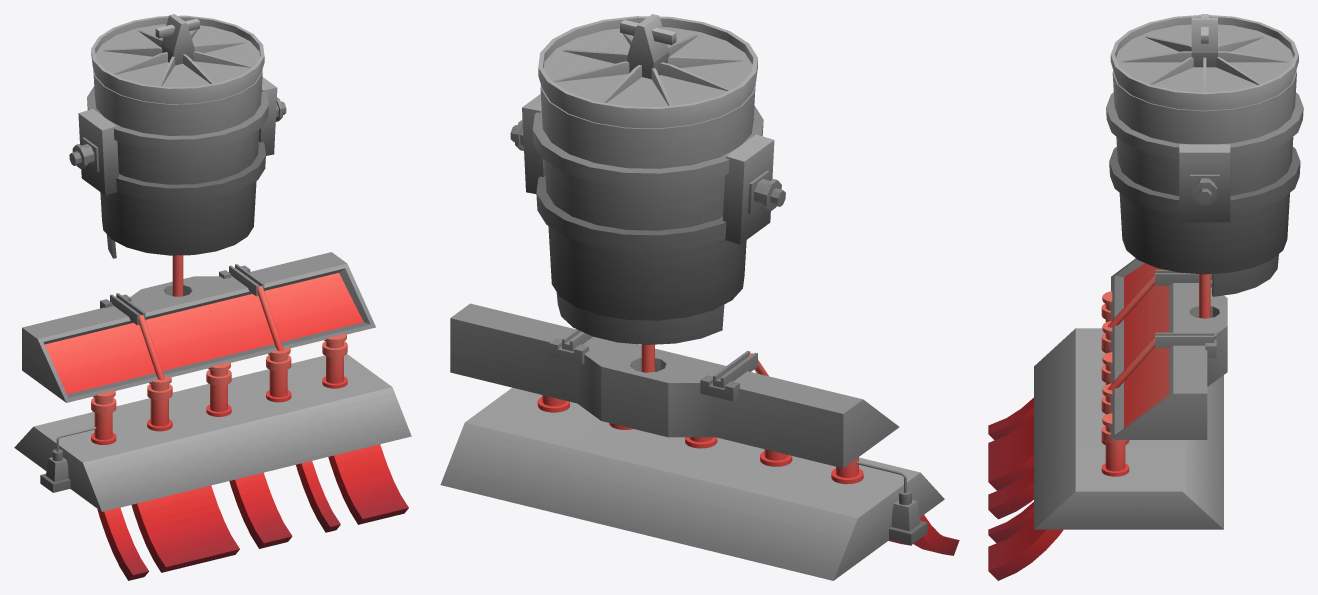
File: Lianzhu.glb
3 views of the same model, side by side, from view 1: azimuth 30°, elevation 25°; view 2: azimuth 150°, elevation 25°; view 3: azimuth 270°, elevation 25° (orthographic). The views are drawn at different scales.
Parts seen in each view (by area): view 1: Lianzhu; view 2: Lianzhu; view 3: Lianzhu.
Boxes of the visible parts, x1,y1,x2,y2 form: Lianzhu: [14, 14, 411, 580]; Lianzhu: [440, 14, 959, 580]; Lianzhu: [988, 14, 1303, 580].
Size of the model in its own units: 10.76 by 14.34 by 8.31.
1 material, 1 textured.
